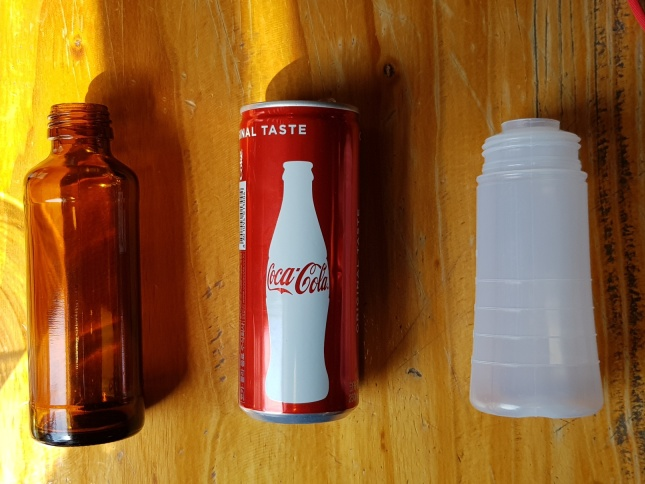Can: (230, 98, 365, 427)
Glass: (15, 99, 146, 448)
Plastic: (464, 111, 606, 424)
